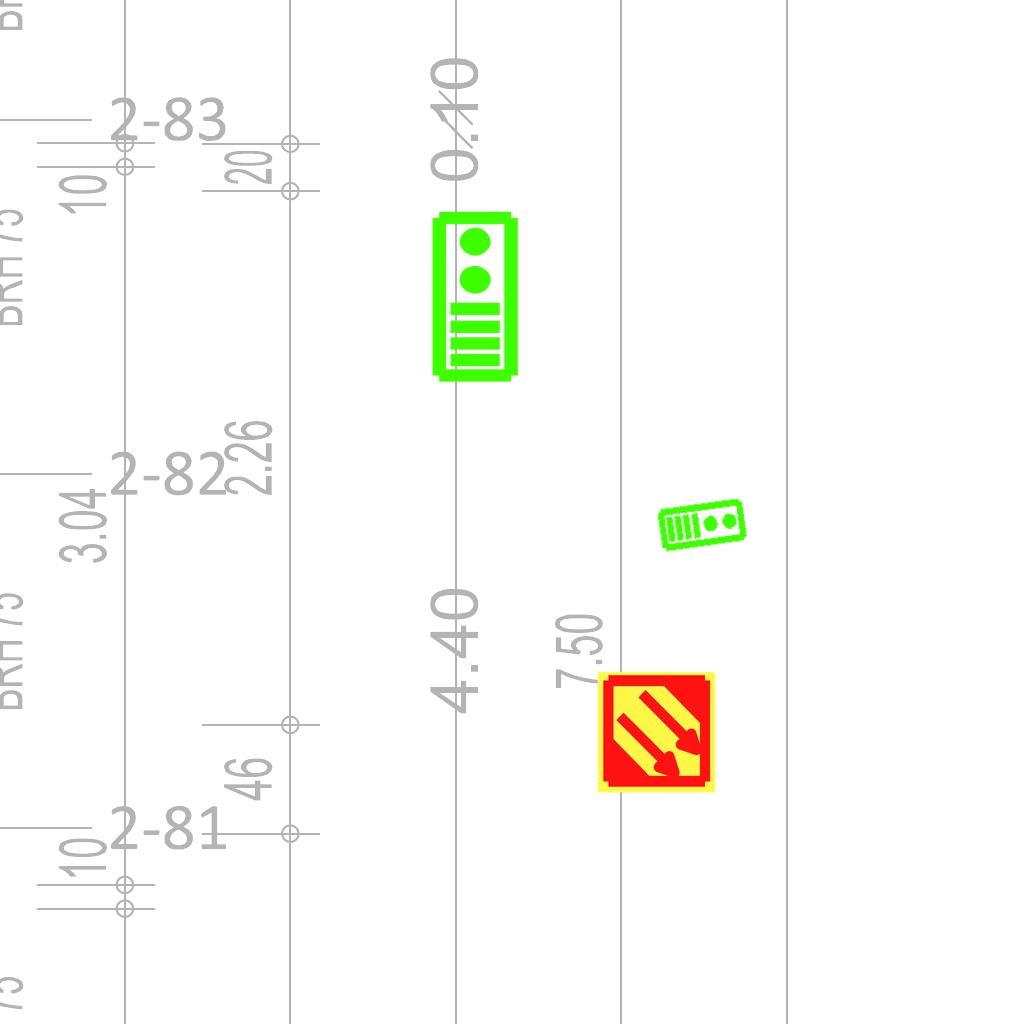ASR_Ansaugrauchmelder: (594, 670, 719, 795)
Gegensprechanlage_mit_Video: (426, 208, 521, 384), (655, 494, 750, 554)
